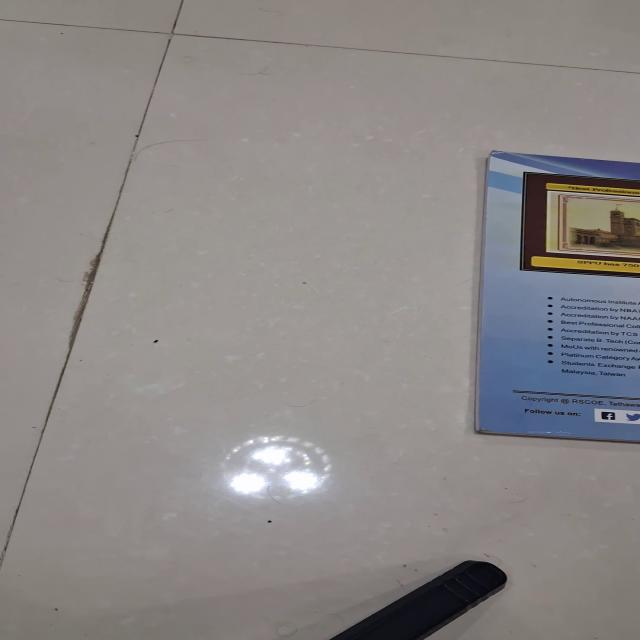paper: (473, 150, 639, 443)
